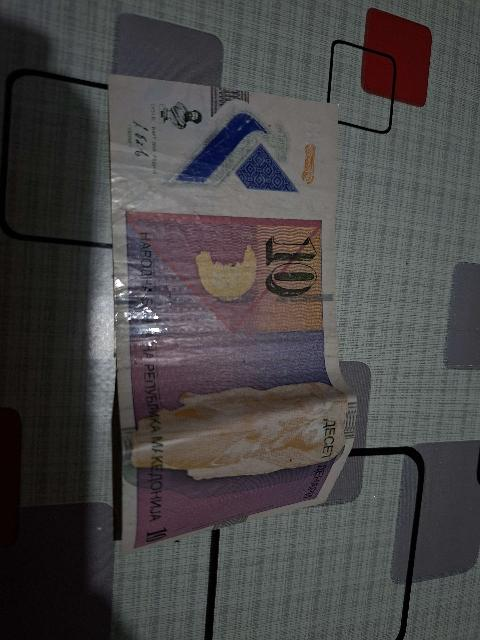note: (103, 61, 351, 549)
